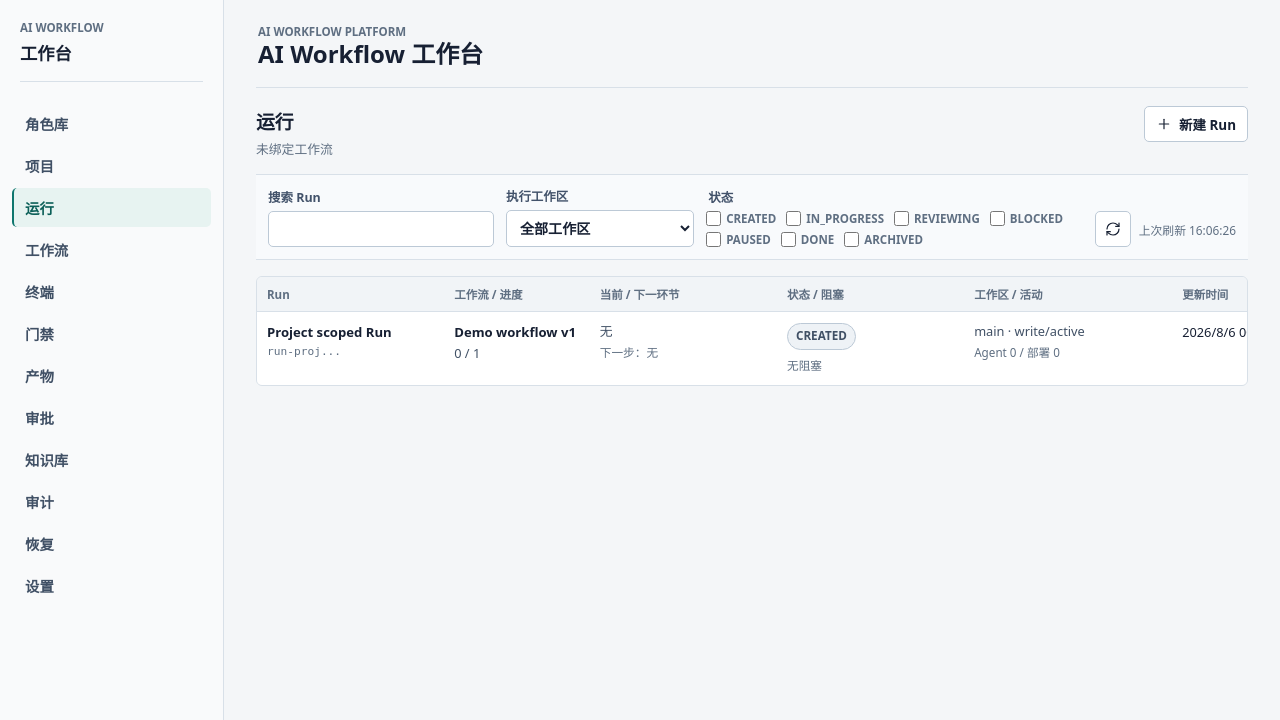
App › retains scoped Run rows and refresh time after a refresh failure
Expected: the text "Project scoped Run" is shown, 267,324 -> 392,342
Expected: the text "上次刷新 16:06:26" is shown, 1139,221 -> 1236,238
Click the button named "刷新 Run 列表" at [1113, 230], box 1095,212 -> 1131,248
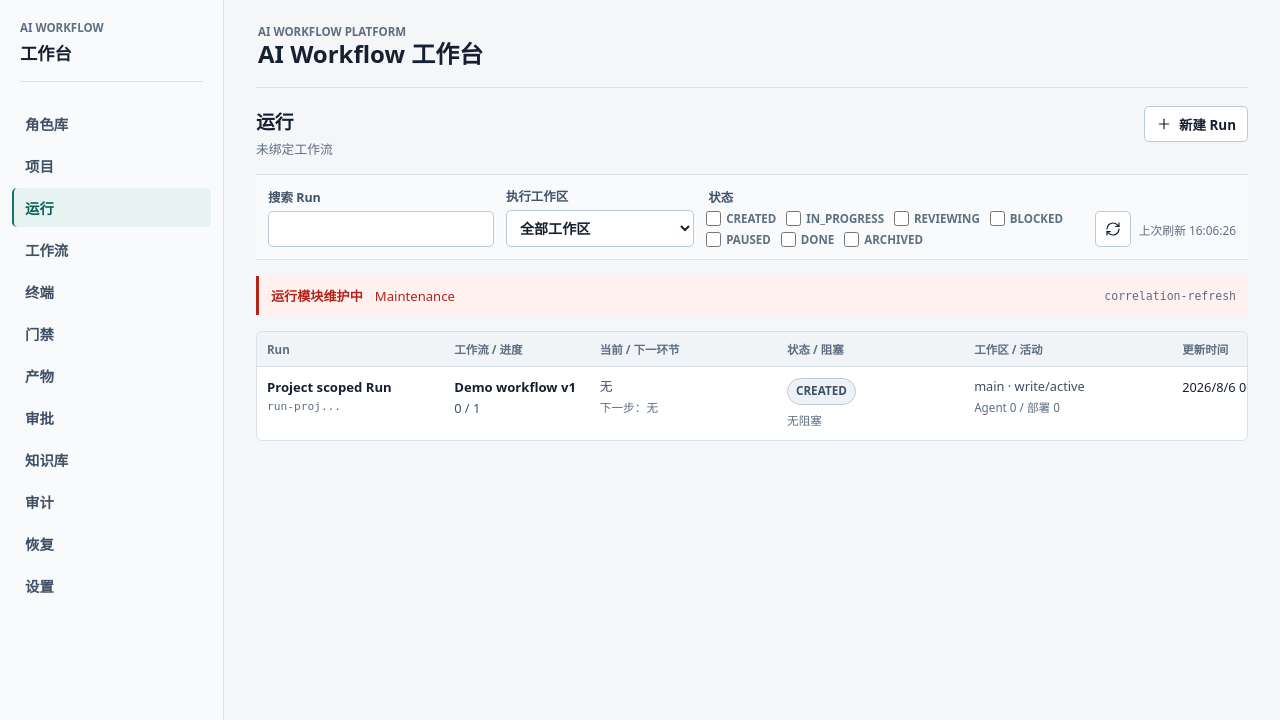
Expected: the text "Project scoped Run" is shown, 267,378 -> 392,396
Result: the text "correlation-refresh" is shown at 1104,289 -> 1236,303
